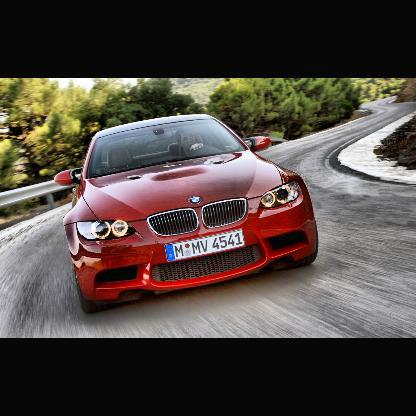BMW M3 Coupe 2012: (56, 115, 321, 318)
